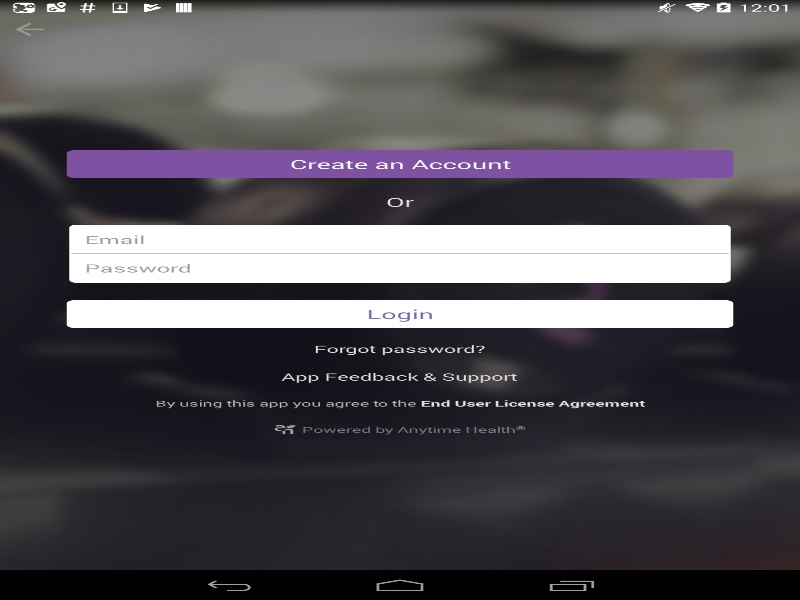Button: (66, 150, 733, 177), (66, 300, 733, 327), (0, 15, 58, 43)
Input: (71, 225, 728, 253), (71, 254, 728, 281)
